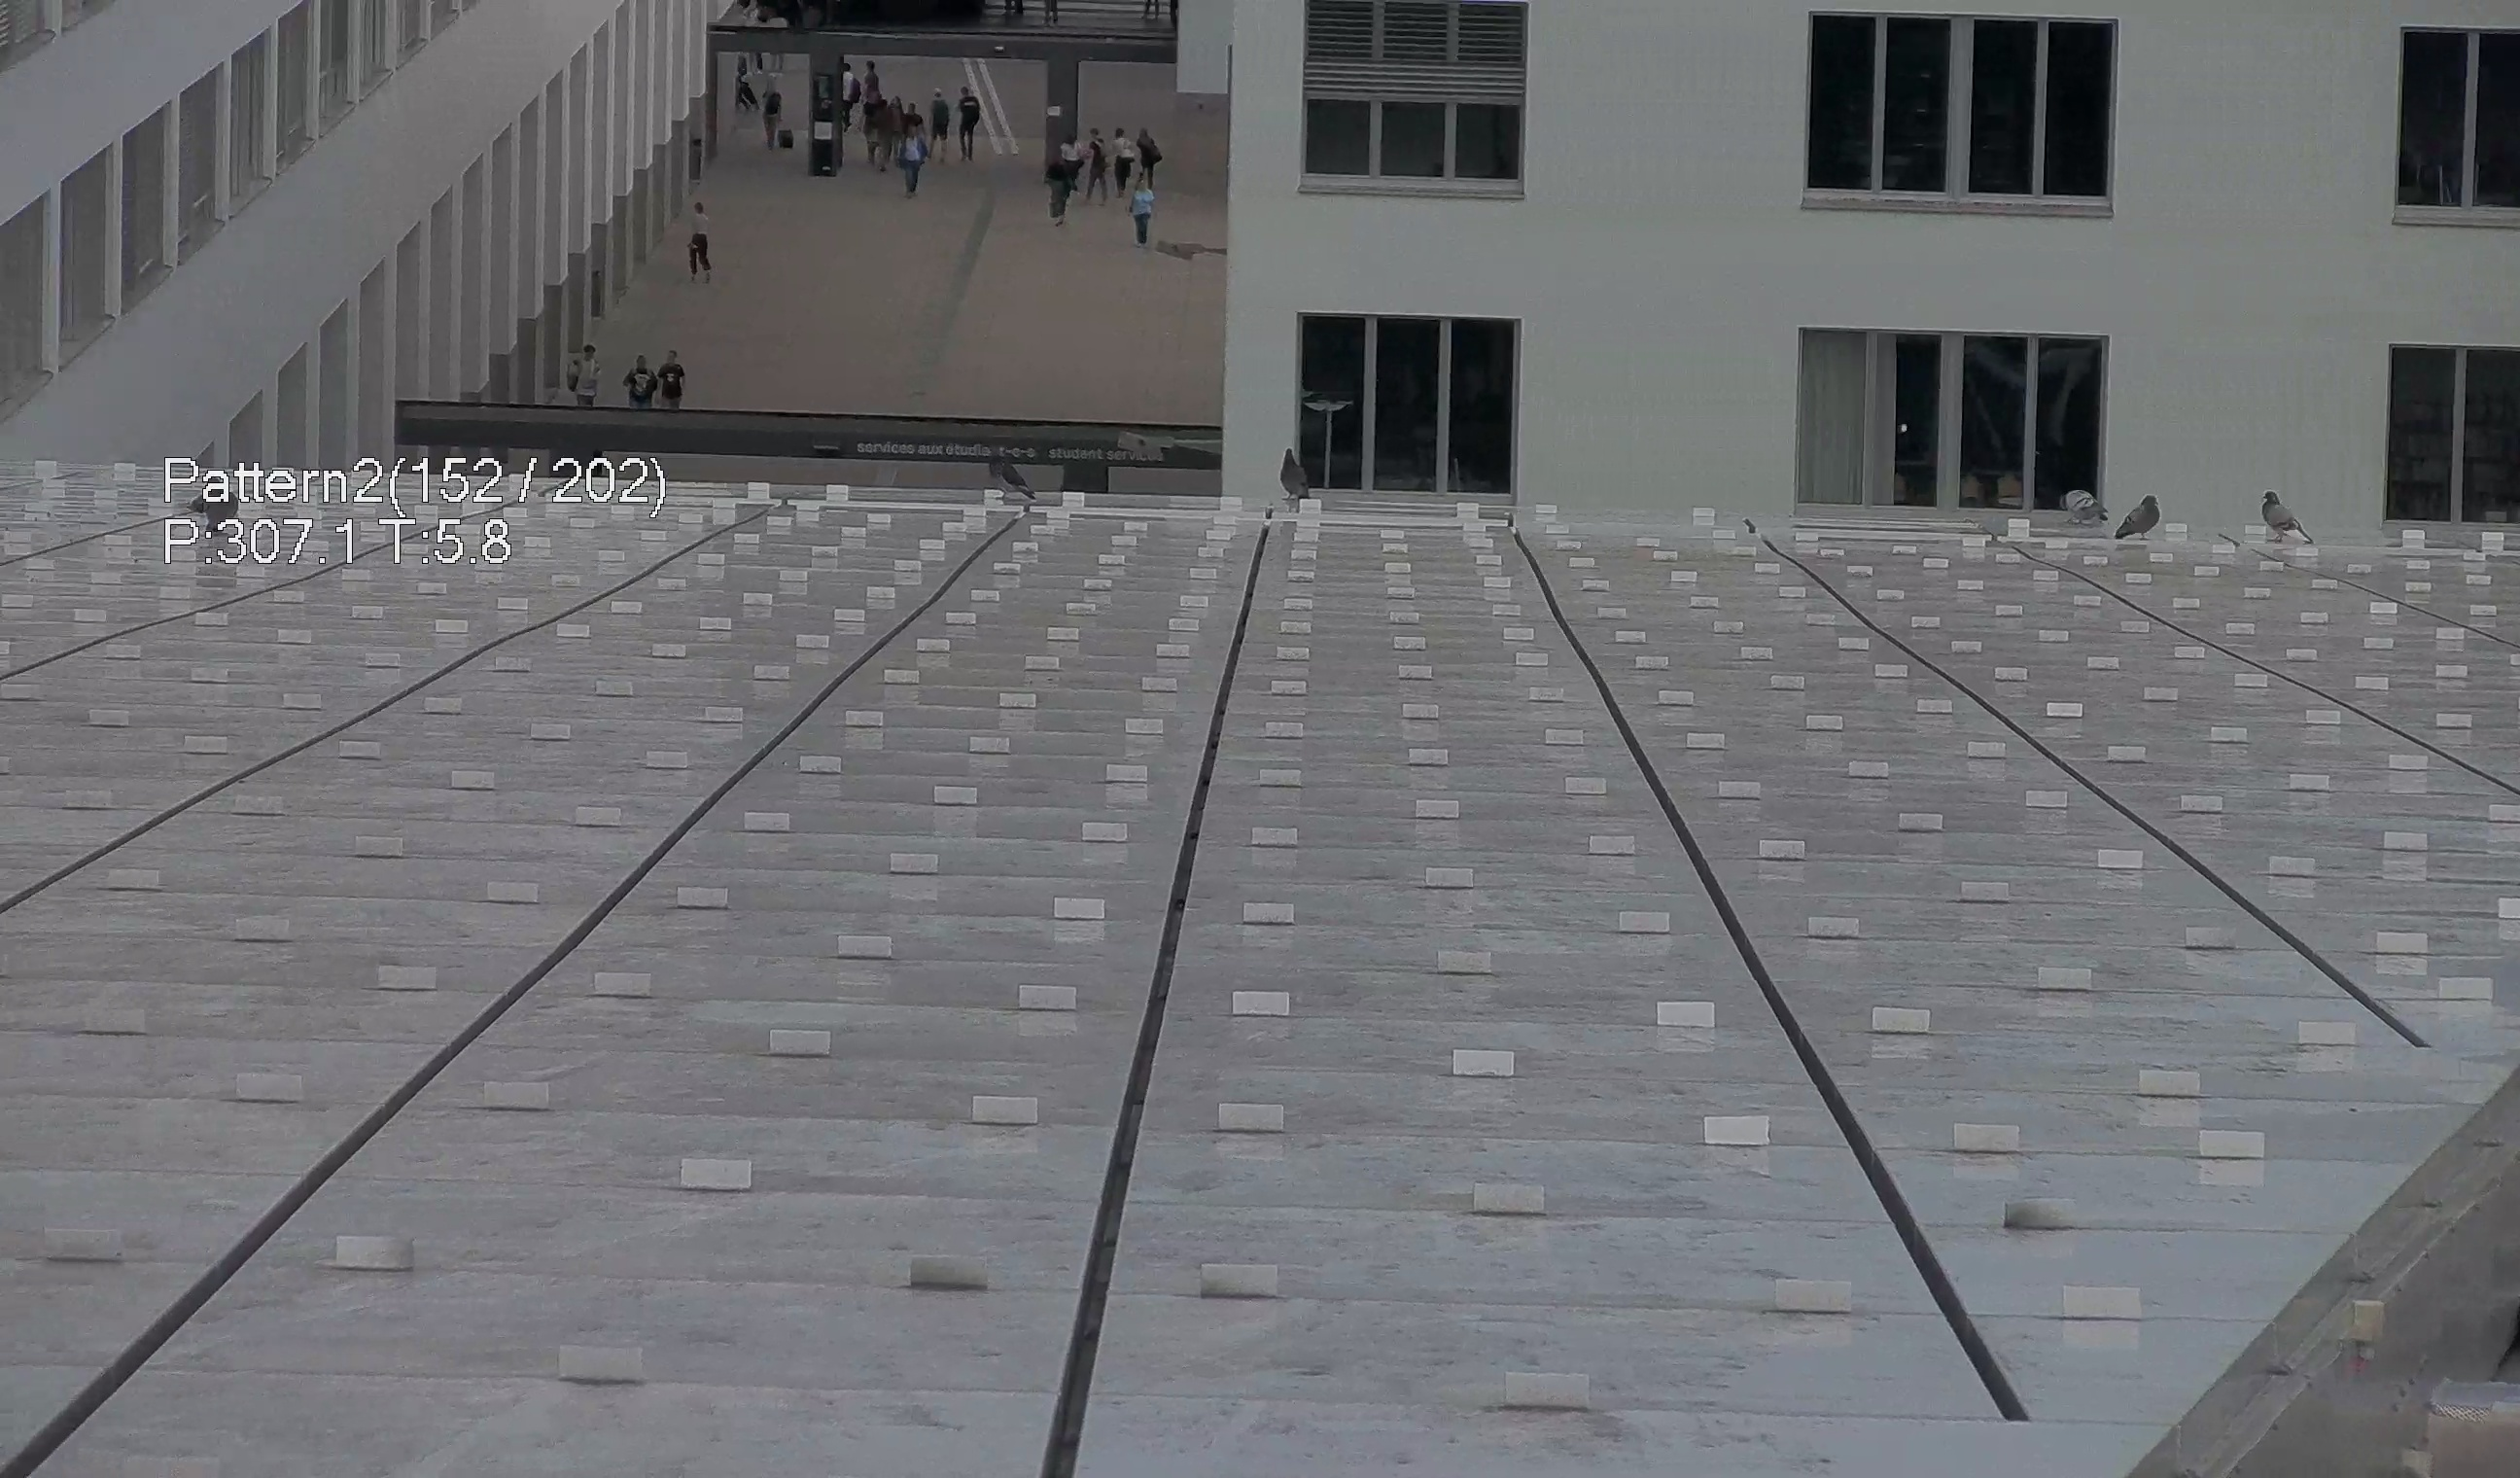Pigeon: (2246, 482, 2332, 552), (983, 442, 1043, 505), (2117, 491, 2163, 545), (1277, 445, 1314, 510), (2059, 479, 2110, 523)
